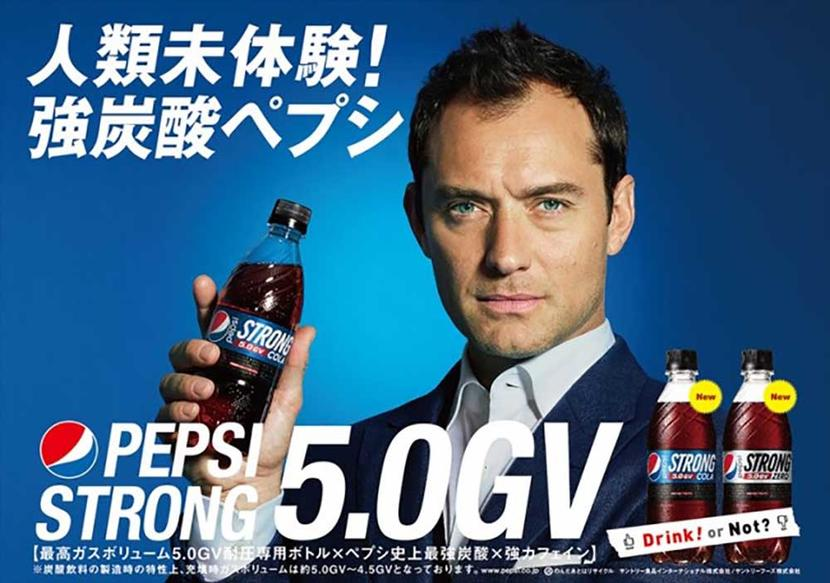pepsi: (36, 415, 97, 478), (36, 418, 97, 478)
